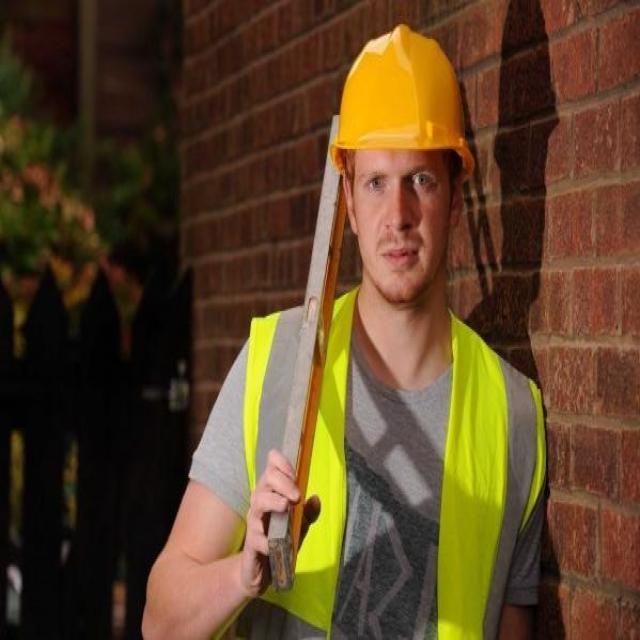Reflective-Jacket: (227, 292, 558, 636)
Safety-Helmet: (322, 21, 480, 177)
